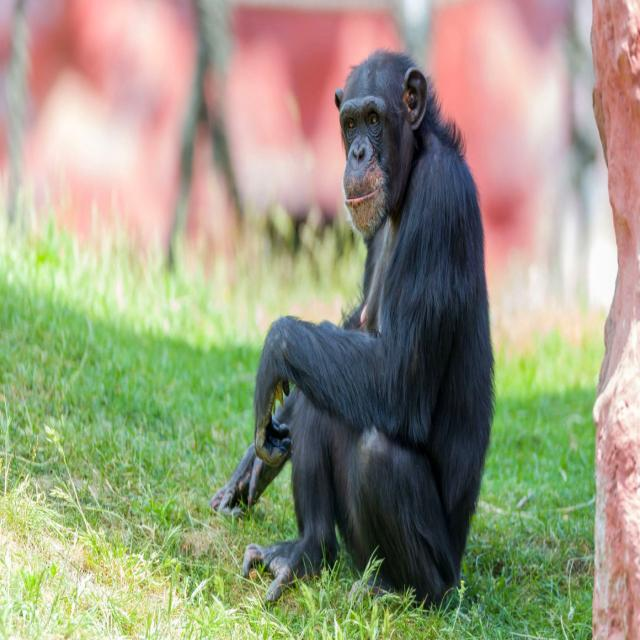chimpanzee: (212, 51, 494, 605)
